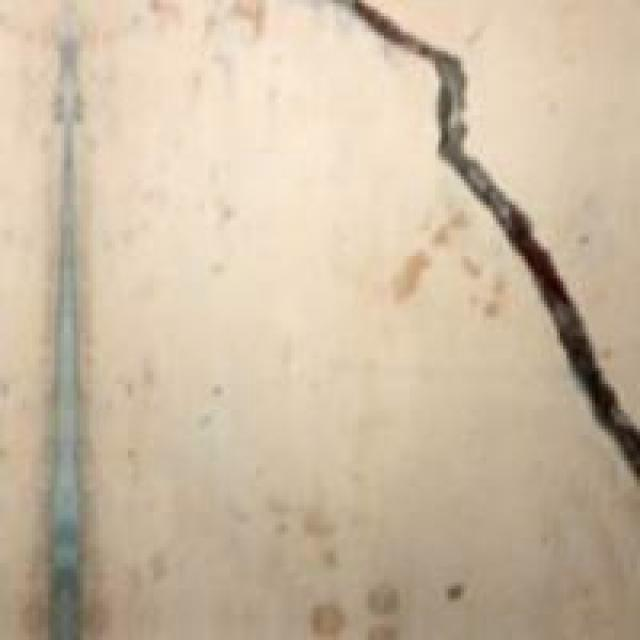crack: (320, 0, 640, 498)
